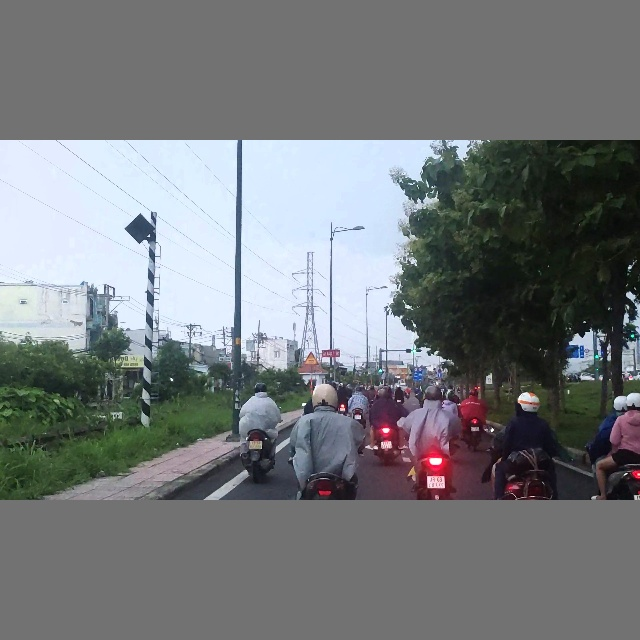W.210: (304, 351, 319, 365)
